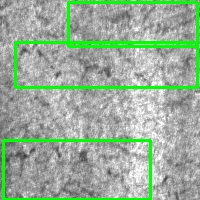crazing: (3, 140, 150, 199), (15, 42, 197, 87), (68, 2, 197, 46)
